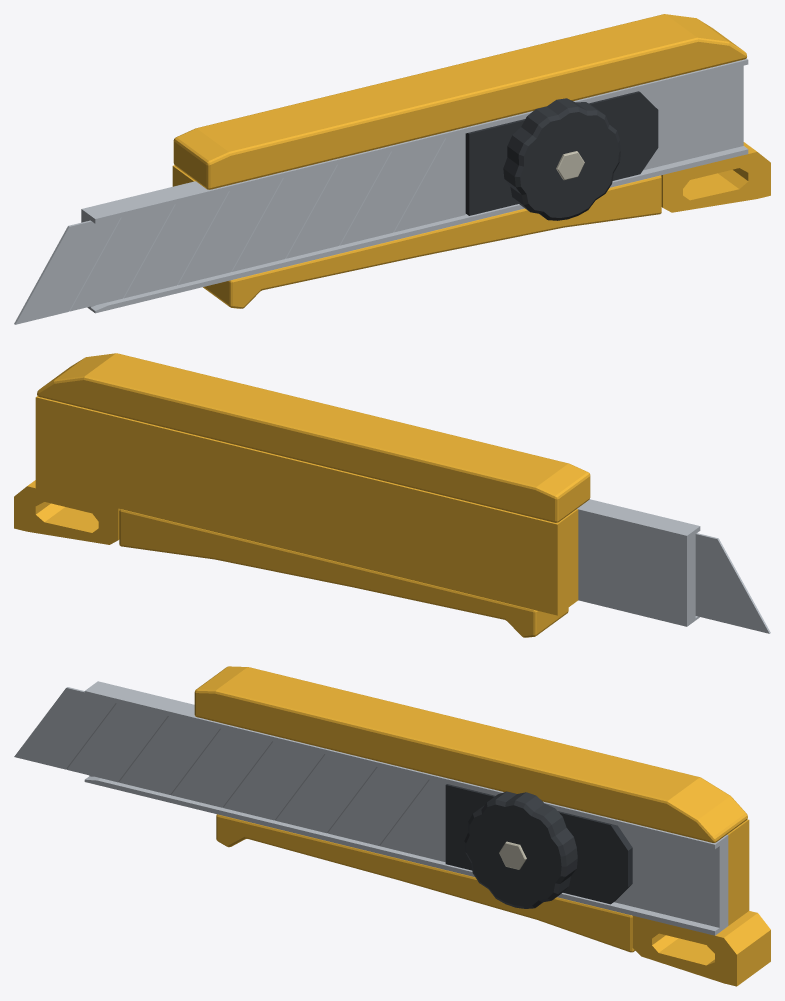
3 views of the same model, one above another, from view 1: azimuth 30°, elevation 25°; view 2: azimuth 150°, elevation 25°; view 3: azimuth 330°, elevation 25° (orthographic). The views are drawn at different scales.
Visible parts, largest first — view 1: Segmented_blade_stock_finite_scored, Upper_molded_grip_rail, Lower_curved_molded_grip_rail, Wheel_lock_knurled_rim, Metal_channel_backing, Estimated_static_blade_carrier, Lower_nose_and_channel_guide, Hooked_tail_with_through_lanyard_aperture, Upper_nose_and_channel_guide, Wheel_central_hex_fastener; view 2: Rear_handle_web, Upper_molded_grip_rail, Metal_channel_backing, Lower_curved_molded_grip_rail, Hooked_tail_with_through_lanyard_aperture, Segmented_blade_stock_finite_scored, Upper_nose_and_channel_guide; view 3: Upper_molded_grip_rail, Segmented_blade_stock_finite_scored, Wheel_lock_knurled_rim, Lower_curved_molded_grip_rail, Metal_channel_backing, Estimated_static_blade_carrier, Hooked_tail_with_through_lanyard_aperture, Lower_nose_and_channel_guide, Upper_nose_and_channel_guide, Rear_handle_web, Wheel_central_hex_fastener.
Boxes of the visible parts, box(x1,y1,x2,y2) form: Segmented_blade_stock_finite_scored: box(14, 133, 465, 324); Upper_molded_grip_rail: box(173, 14, 746, 189); Lower_curved_molded_grip_rail: box(203, 175, 661, 308); Wheel_lock_knurled_rim: box(503, 98, 620, 220); Metal_channel_backing: box(81, 65, 743, 309); Estimated_static_blade_carrier: box(465, 91, 658, 215); Lower_nose_and_channel_guide: box(90, 146, 748, 313); Hooked_tail_with_through_lanyard_aperture: box(661, 142, 770, 212); Upper_nose_and_channel_guide: box(90, 58, 748, 223); Wheel_central_hex_fastener: box(556, 151, 584, 180); Rear_handle_web: box(35, 396, 578, 615); Upper_molded_grip_rail: box(37, 353, 590, 522); Metal_channel_backing: box(577, 502, 695, 626); Lower_curved_molded_grip_rail: box(119, 509, 568, 637); Hooked_tail_with_through_lanyard_aperture: box(14, 480, 119, 544); Segmented_blade_stock_finite_scored: box(695, 533, 770, 633); Upper_nose_and_channel_guide: box(586, 499, 700, 533); Upper_molded_grip_rail: box(194, 666, 747, 842); Segmented_blade_stock_finite_scored: box(14, 687, 446, 862); Wheel_lock_knurled_rim: box(464, 791, 577, 908); Lower_curved_molded_grip_rail: box(216, 814, 635, 952); Metal_channel_backing: box(89, 681, 728, 931); Estimated_static_blade_carrier: box(445, 784, 632, 904); Hooked_tail_with_through_lanyard_aperture: box(632, 911, 770, 986); Lower_nose_and_channel_guide: box(84, 776, 719, 935); Upper_nose_and_channel_guide: box(84, 687, 719, 849); Rear_handle_web: box(727, 819, 749, 925); Wheel_central_hex_fastener: box(499, 841, 526, 869).
Bounding box in the file's own units: 0.167 × 0.037 × 0.02.
